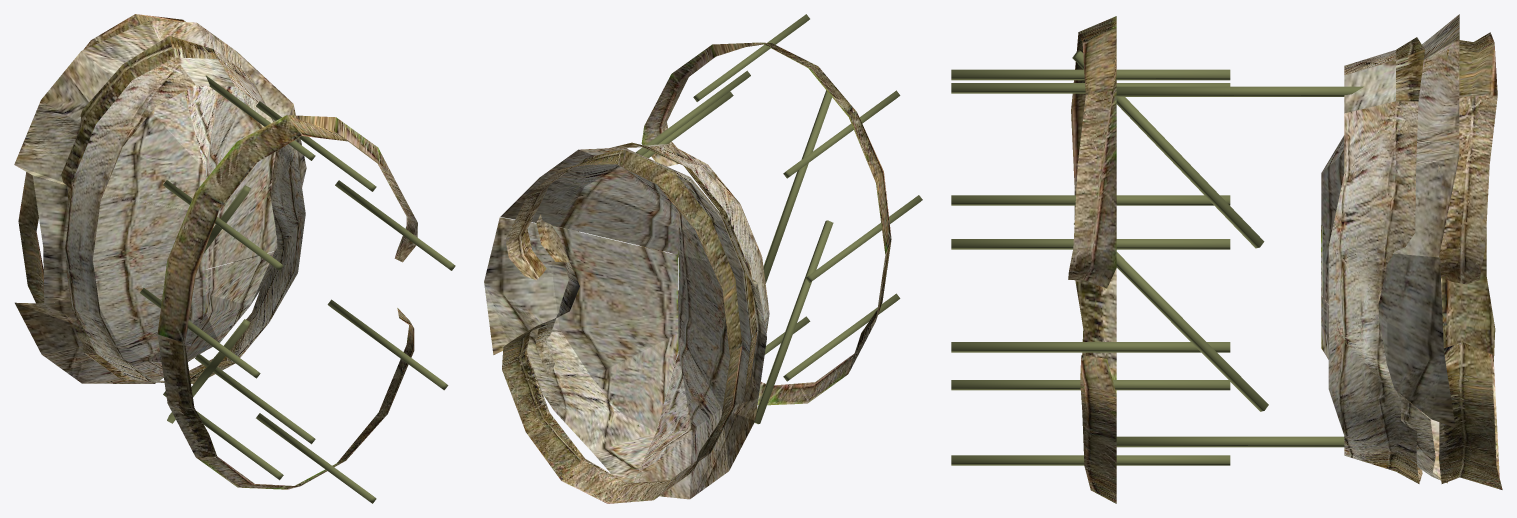
Rendered from hut_000008.obj.
The picture shows the model from 3 angles, left to right: view 1: azimuth 30°, elevation 25°; view 2: azimuth 150°, elevation 25°; view 3: azimuth 270°, elevation 25°; orthographic projection. The views are drawn at different scales.
Visible parts, largest first — view 1: Sphere.003, Sphere.002, Sphere.004, Sphere.007, Sphere.008, Sphere.006, Sphere.005, Sphere, Sphere.001, Cylinder.011_Cylinder.012, Cylinder.004, Cylinder (+8 smaller); view 2: Sphere, Sphere.001, Sphere.005, Sphere.008, Sphere.006, Sphere.002, Sphere.003, Sphere.007, Sphere.004, Cylinder.012_Cylinder.013, Cylinder.013_Cylinder.014, Cylinder.001 (+5 smaller); view 3: Sphere.003, Sphere.001, Sphere.002, Sphere.005, Sphere.006, Cylinder.001, Cylinder.006, Cylinder.007, Cylinder, Cylinder.011_Cylinder.012, Cylinder.009, Cylinder.004 (+6 smaller).
Part boxes in pixels (x1=…): Sphere.003: x1=61, y1=36, x2=305, y2=384; Sphere.002: x1=157, y1=115, x2=417, y2=489; Sphere.004: x1=14, y1=21, x2=205, y2=209; Sphere.007: x1=32, y1=175, x2=205, y2=303; Sphere.008: x1=15, y1=270, x2=205, y2=383; Sphere.006: x1=149, y1=20, x2=293, y2=179; Sphere.005: x1=205, y1=105, x2=306, y2=269; Sphere: x1=161, y1=250, x2=277, y2=379; Sphere.001: x1=18, y1=14, x2=258, y2=351; Cylinder.011_Cylinder.012: x1=327, y1=299, x2=448, y2=390; Cylinder.004: x1=335, y1=180, x2=455, y2=270; Cylinder: x1=256, y1=413, x2=376, y2=503; Sphere: x1=527, y1=310, x2=678, y2=483; Sphere.001: x1=502, y1=150, x2=742, y2=503; Sphere.005: x1=484, y1=217, x2=677, y2=354; Sphere.008: x1=633, y1=310, x2=758, y2=499; Sphere.006: x1=500, y1=147, x2=678, y2=254; Sphere.002: x1=641, y1=42, x2=891, y2=405; Sphere.003: x1=535, y1=142, x2=769, y2=469; Sphere.007: x1=678, y1=255, x2=766, y2=397; Sphere.004: x1=626, y1=148, x2=757, y2=287; Cylinder.012_Cylinder.013: x1=754, y1=220, x2=833, y2=424; Cylinder.013_Cylinder.014: x1=763, y1=90, x2=831, y2=283; Cylinder.001: x1=693, y1=14, x2=809, y2=101; Sphere.003: x1=1328, y1=37, x2=1424, y2=483; Sphere.001: x1=1438, y1=32, x2=1502, y2=489; Sphere.002: x1=1068, y1=16, x2=1116, y2=503; Sphere.005: x1=1322, y1=226, x2=1455, y2=427; Sphere.006: x1=1321, y1=38, x2=1459, y2=257; Cylinder.001: x1=951, y1=69, x2=1230, y2=80; Cylinder.006: x1=951, y1=342, x2=1230, y2=352; Cylinder.007: x1=1116, y1=436, x2=1344, y2=447; Cylinder: x1=951, y1=455, x2=1230, y2=465; Cylinder.011_Cylinder.012: x1=951, y1=380, x2=1230, y2=390; Cylinder.009: x1=1116, y1=86, x2=1363, y2=96; Cylinder.004: x1=951, y1=239, x2=1230, y2=249.
Bounding box in the file's own units: 3.9 × 4.88 × 5.27.
